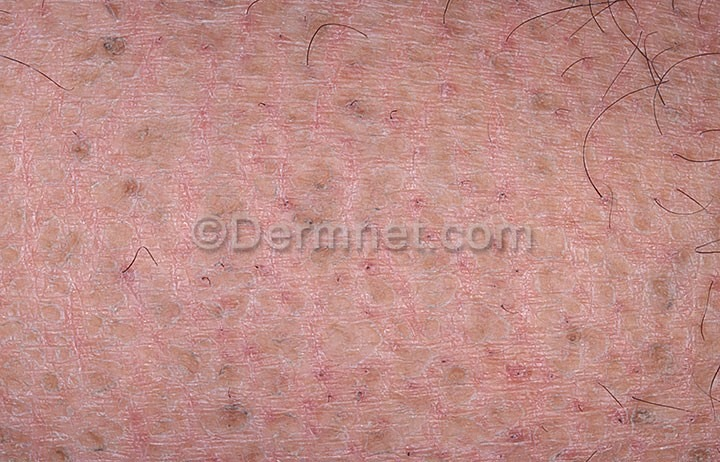Eczema: (4, 2, 719, 460)
